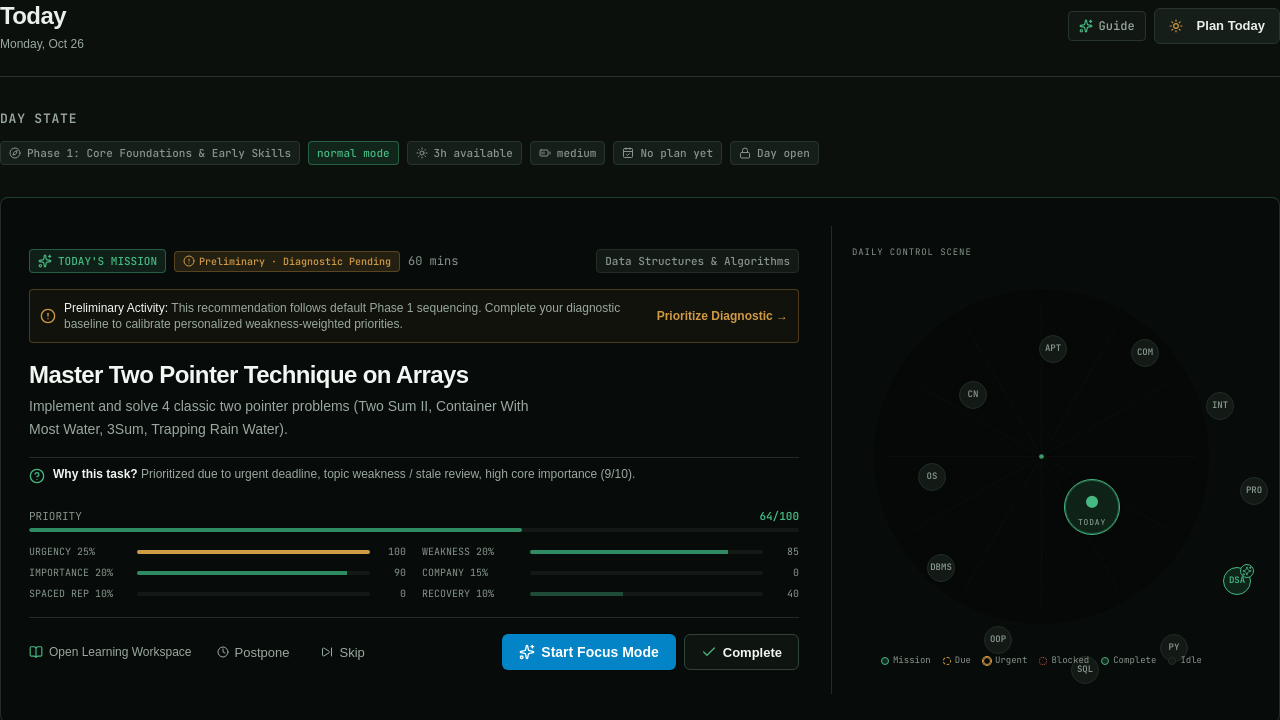
Test: A — legacy Today guide removal › A2. opening Today’s guide renders the shared overlay, never the legacy panel
This screenshot has width=1280, height=720.
(page scrolled)
Click the button with test id "today-guide-trigger": (1107, 26) left=1068, top=11, right=1146, bottom=41
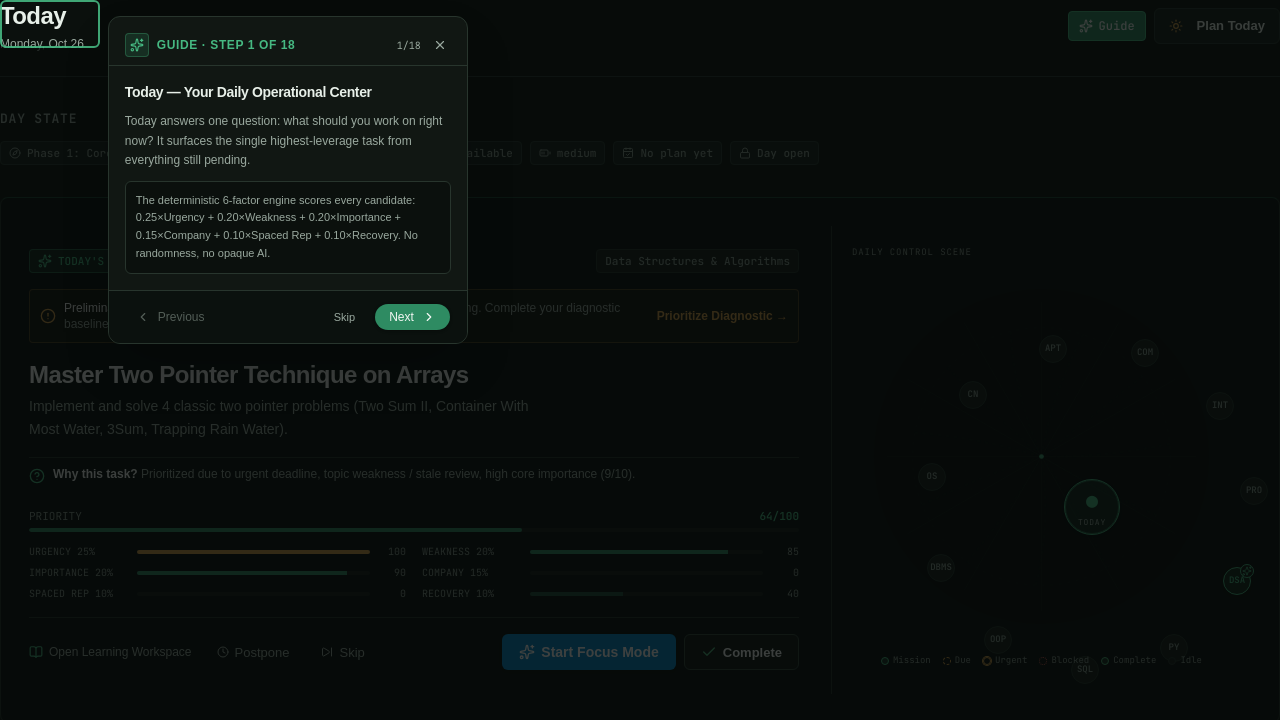
Now the dialog with test id "guide-dialog" is shown, box left=108, top=16, right=468, bottom=344
Now the element with test id "guide-overlay" is shown, box left=0, top=0, right=468, bottom=344
